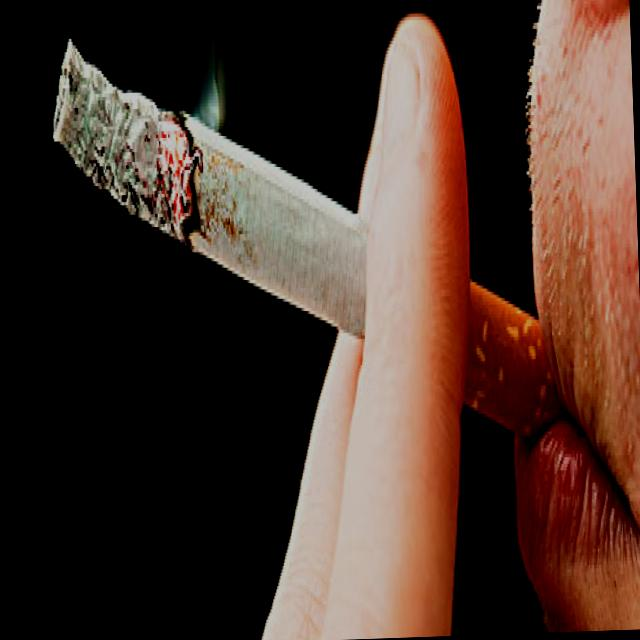cigarette: (34, 9, 564, 518)
